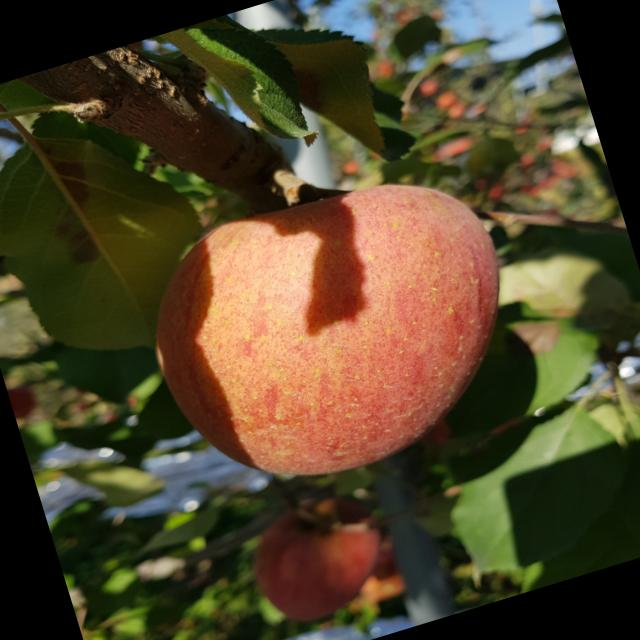fresh: (114, 139, 558, 524)
